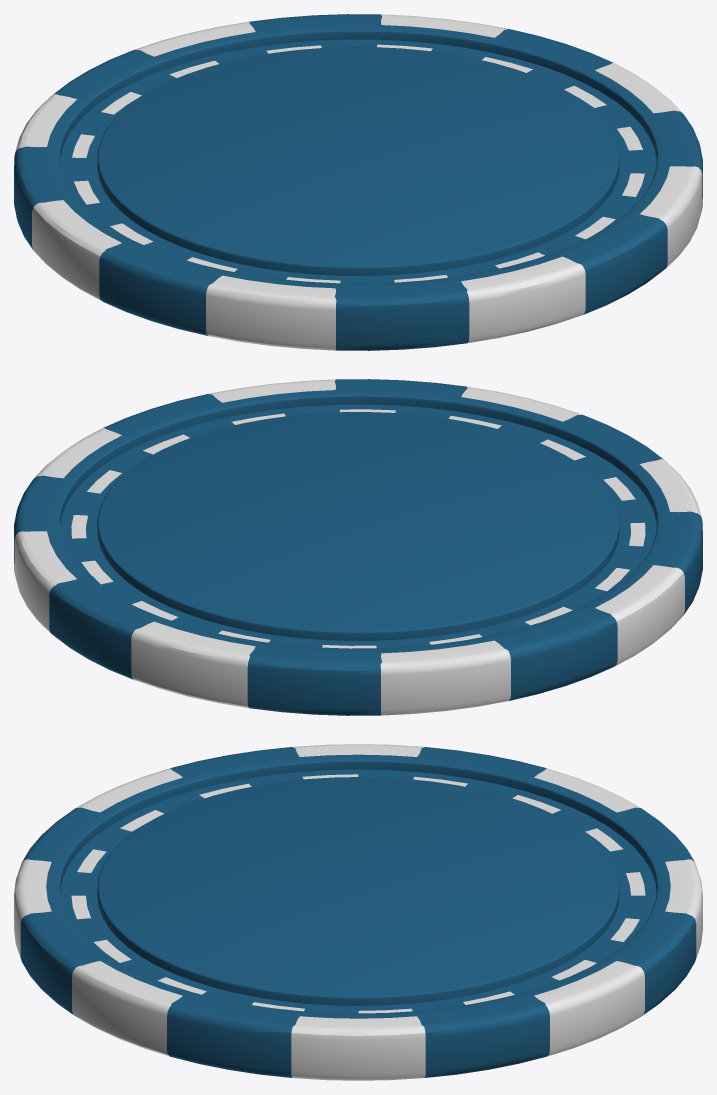
The model's file is Blue.fbx.
3 renders of one model, top to bottom at view 1: azimuth 30°, elevation 25°; view 2: azimuth 150°, elevation 25°; view 3: azimuth 270°, elevation 25°, orthographic.
Visible parts, largest first — view 1: Chip.023; view 2: Chip.023; view 3: Chip.023.
Part boxes in pixels (bbox=[...]): Chip.023: bbox=[14, 14, 702, 350]; Chip.023: bbox=[14, 379, 702, 715]; Chip.023: bbox=[14, 744, 702, 1080].
Size of the model in its own units: 8.02 by 0.6684 by 8.02.
